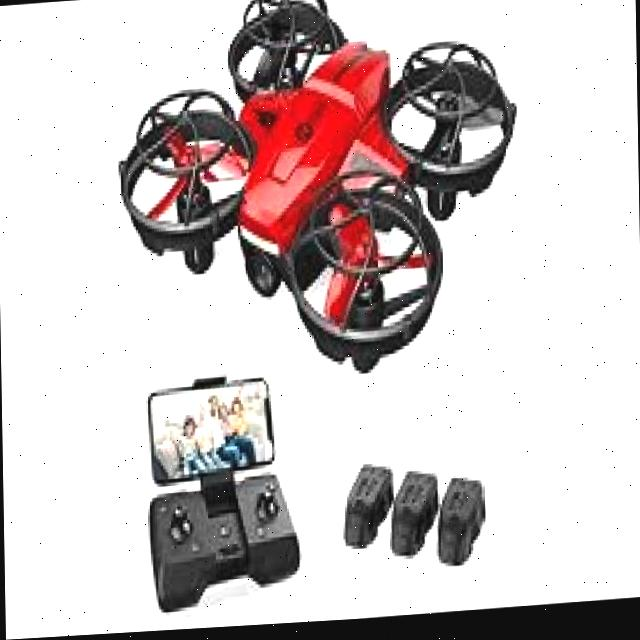drone: (105, 0, 528, 394)
